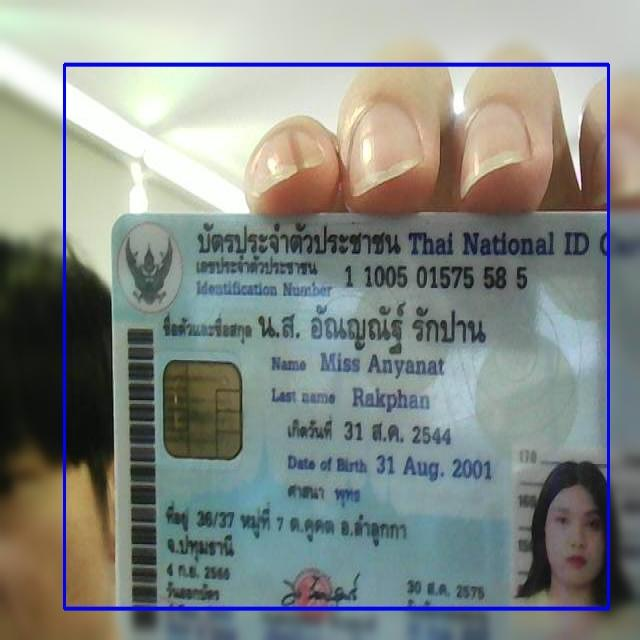Address_th: (160, 497, 428, 565)
Date_of_Birth: (372, 448, 502, 488)
First_Name: (314, 351, 450, 381)
ID_Number: (341, 258, 533, 298)
Image: (518, 447, 634, 631)
Last_Name: (349, 382, 435, 417)
Thai_Name: (254, 300, 489, 355)
